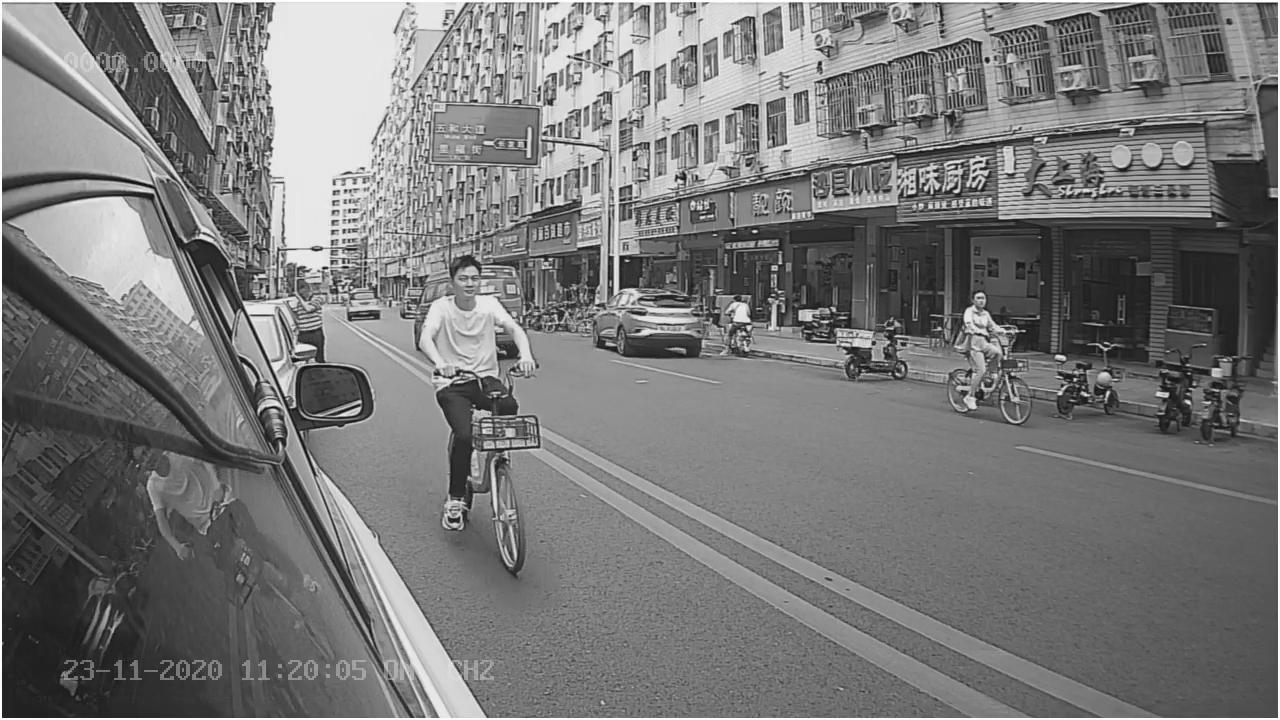person: (409, 247, 539, 381)
